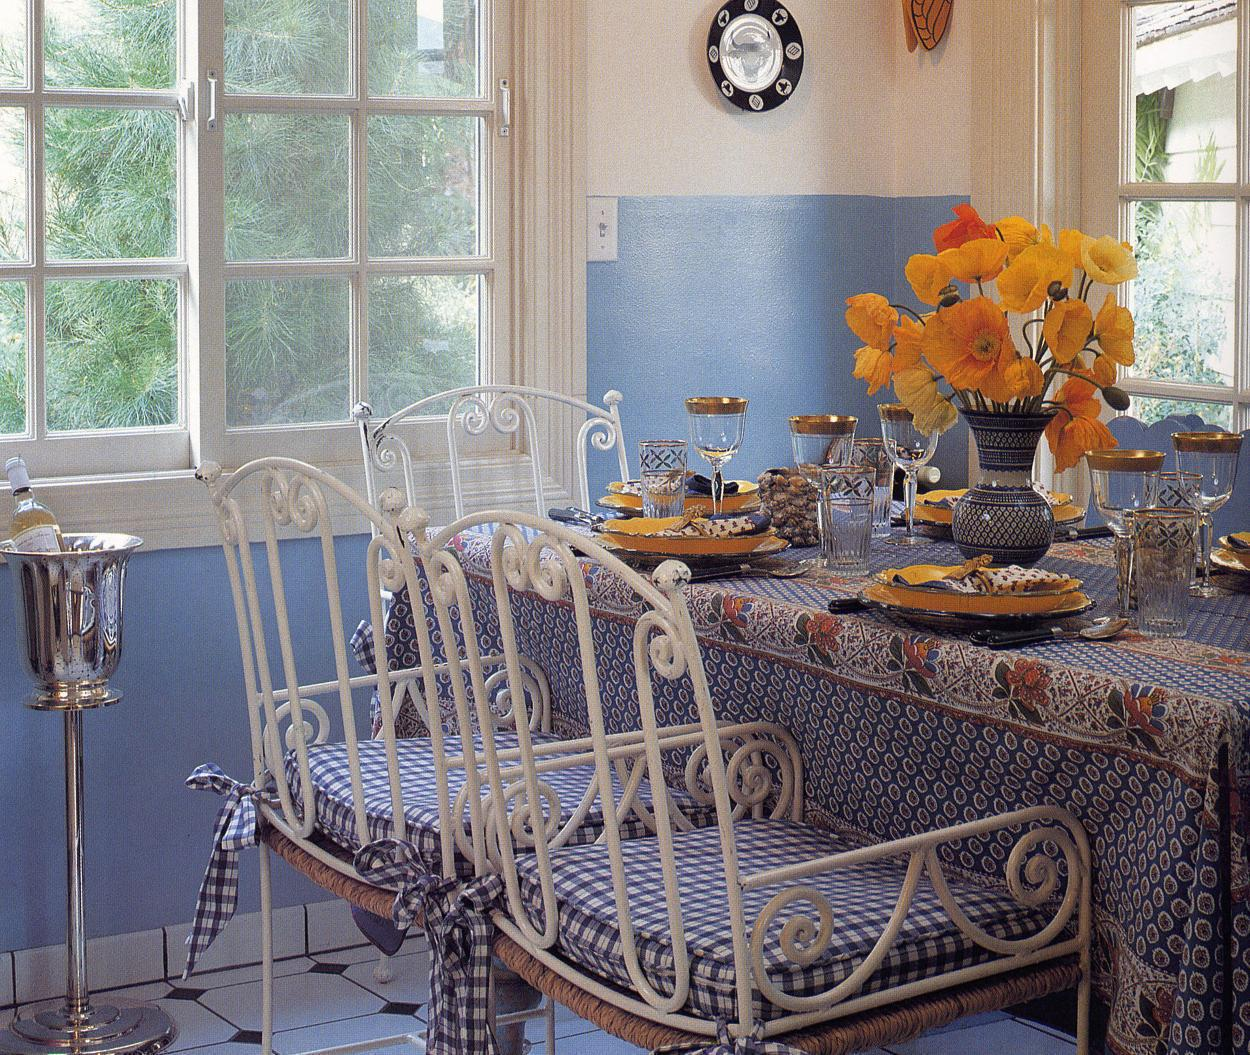Otro Obstaculo: (4, 475, 183, 1054)
Ventana: (2, 12, 560, 478), (1057, 9, 1249, 465)
